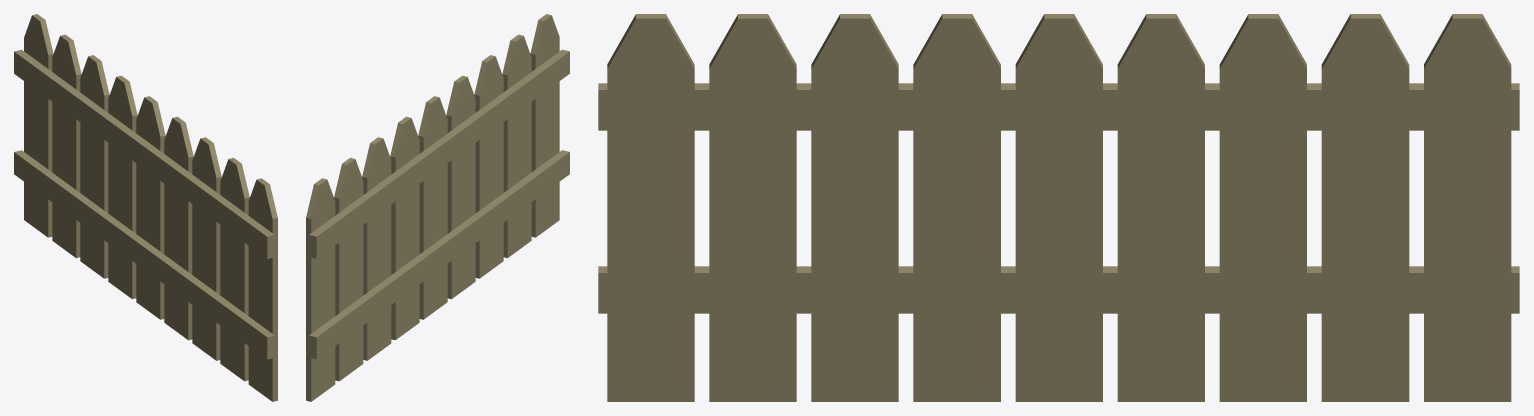
The model's file is Fence.glb.
3 renders of one model, left to right at view 1: azimuth 30°, elevation 25°; view 2: azimuth 150°, elevation 25°; view 3: azimuth 270°, elevation 25°, orthographic. The views are drawn at different scales.
Parts seen in each view (by area): view 1: Cube.010; view 2: Cube.010; view 3: Cube.010.
Boxes of the visible parts, bbox=[...] form: Cube.010: bbox=[14, 14, 277, 401]; Cube.010: bbox=[306, 14, 569, 401]; Cube.010: bbox=[598, 14, 1519, 401].
Bounding box in the file's own units: 0.0601 × 0.9274 × 2.02.
